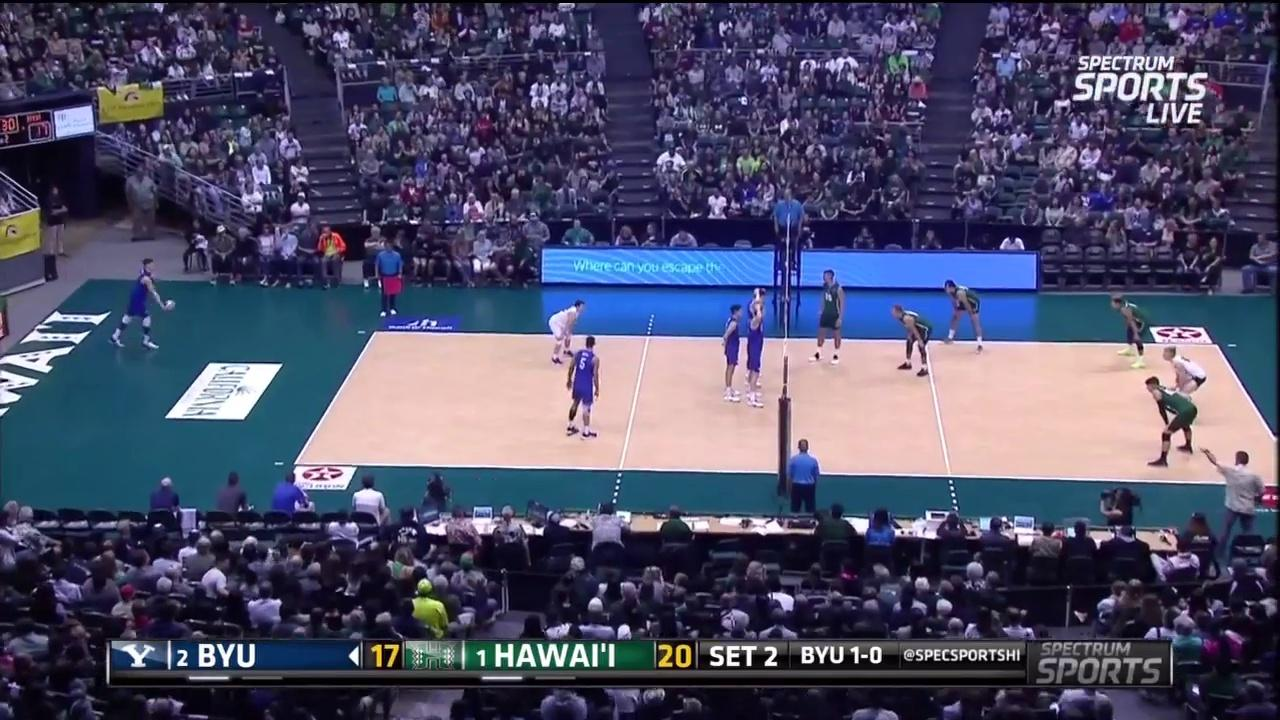player: (1145, 365, 1201, 468), (118, 259, 174, 350), (567, 336, 602, 439), (724, 303, 757, 403), (736, 303, 765, 405), (1115, 294, 1155, 367), (1159, 344, 1209, 401), (942, 279, 982, 350), (895, 303, 934, 374), (815, 270, 844, 364), (548, 298, 585, 367), (746, 286, 769, 386)
refree: (785, 436, 820, 514), (772, 189, 805, 263), (377, 236, 406, 319)
